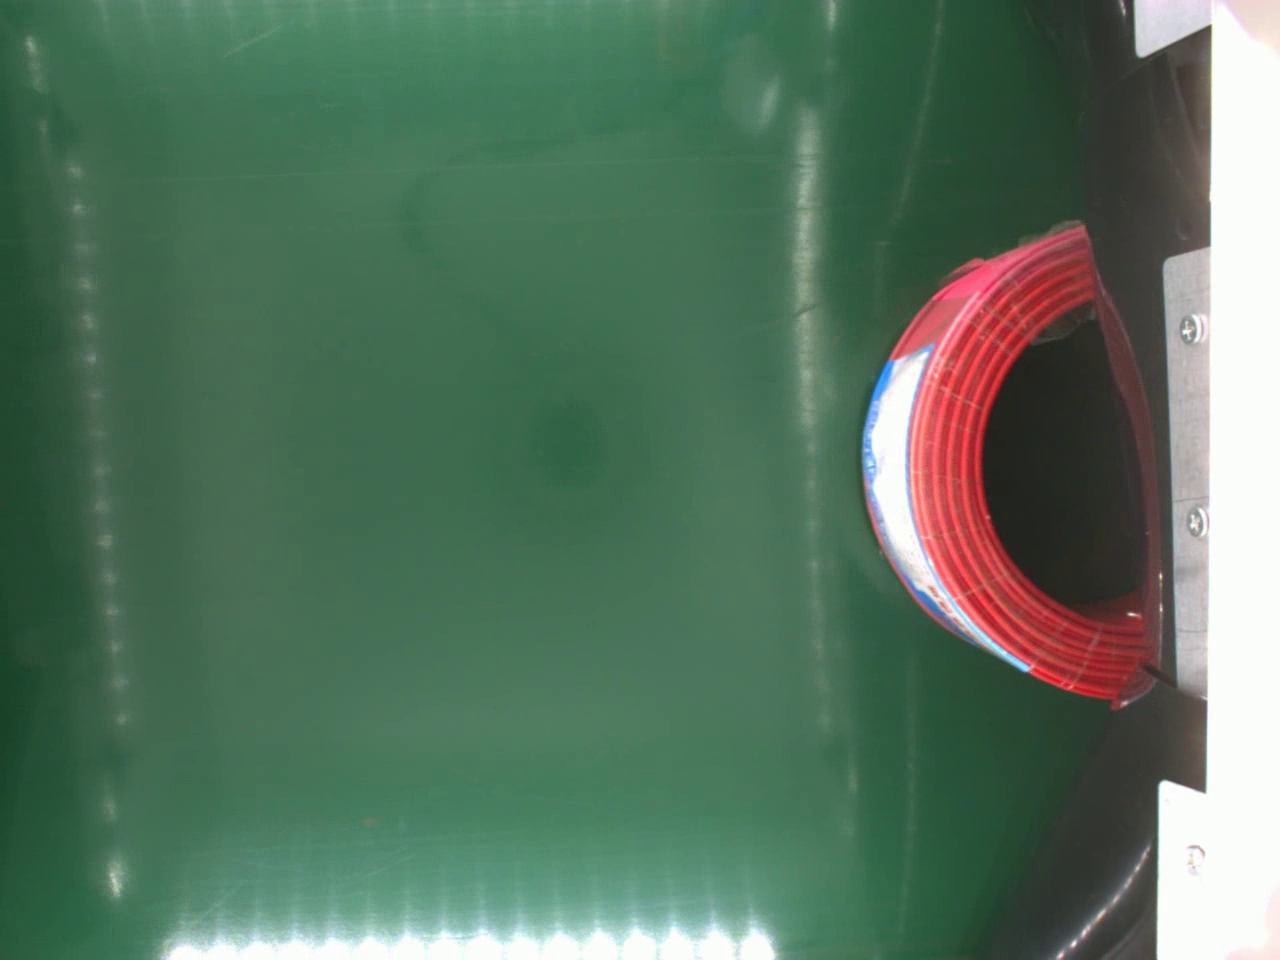red: (854, 221, 1157, 707)
